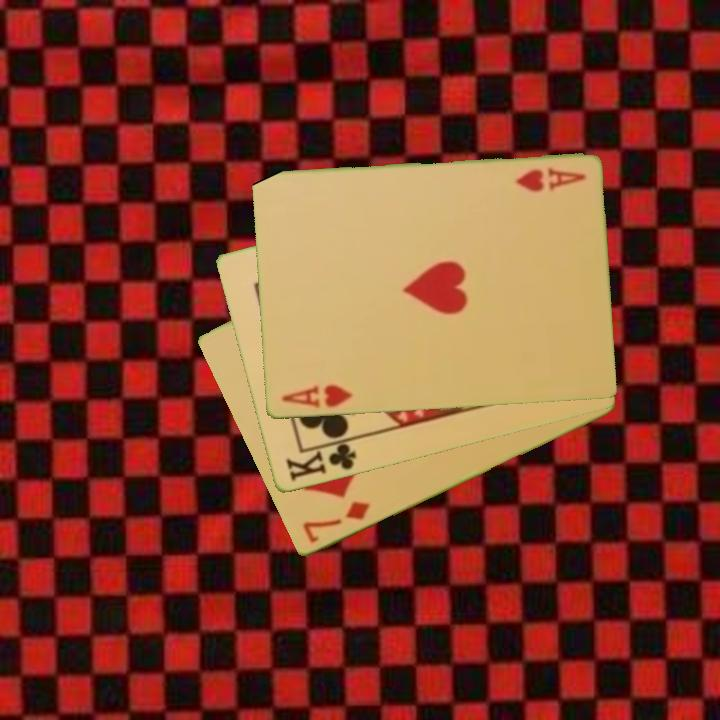7d: (299, 498, 373, 547)
Ah: (278, 381, 355, 411), (511, 164, 588, 194)
Kc: (282, 436, 359, 485)
